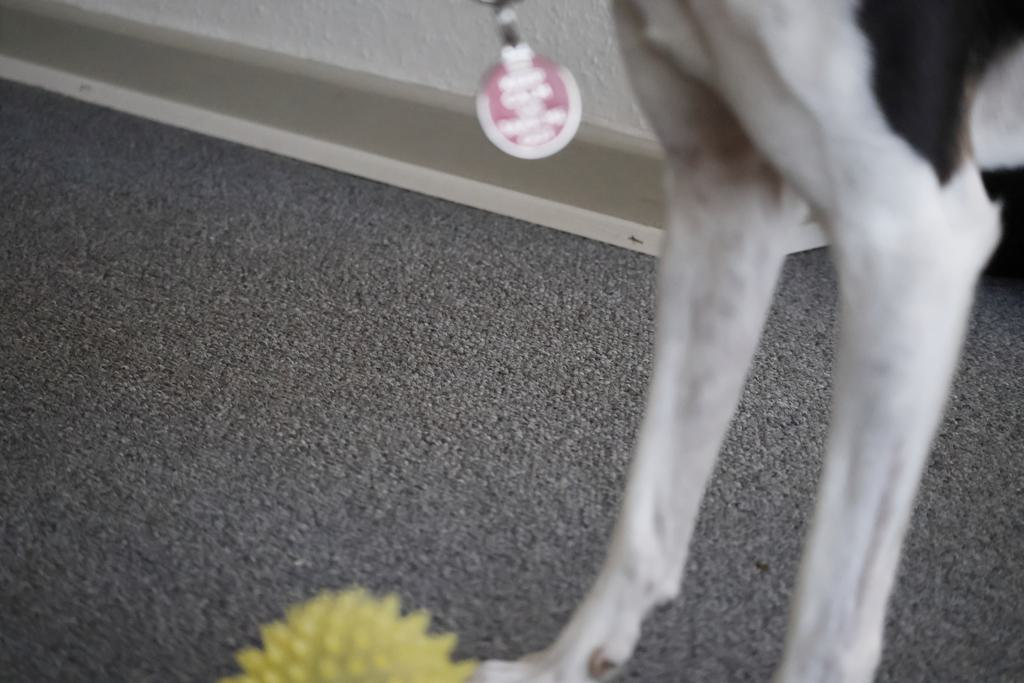Dog: (432, 0, 1024, 683)
